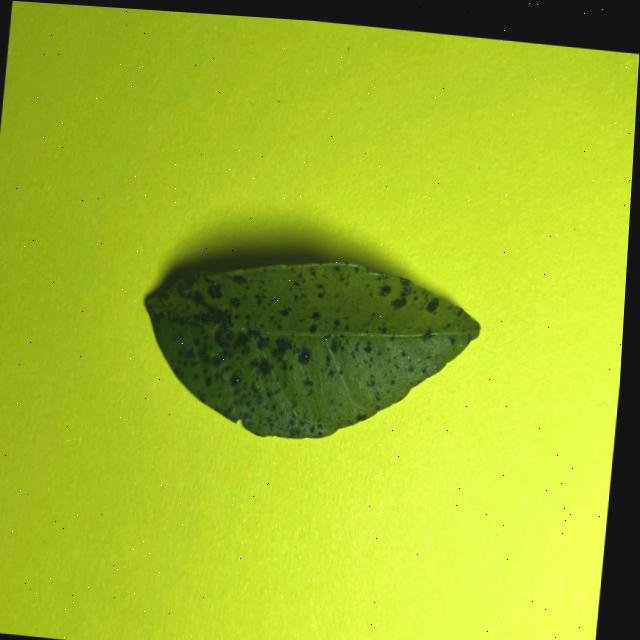sooty_mold: (145, 263, 478, 438)
